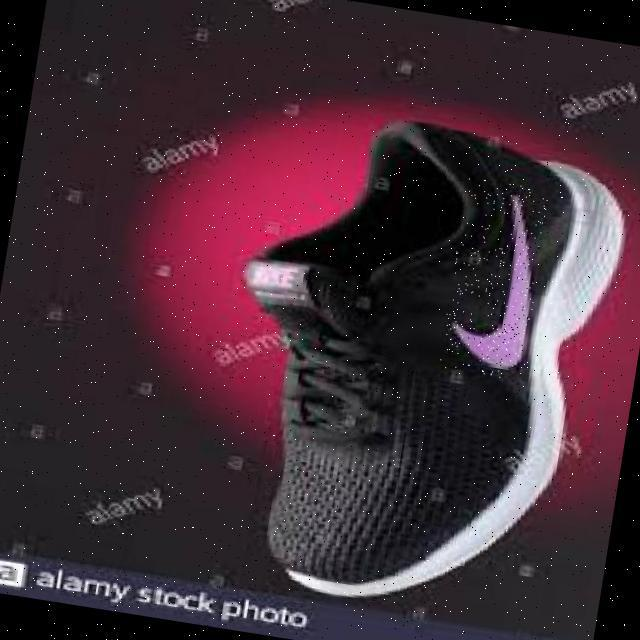Nike: (438, 177, 552, 382)
